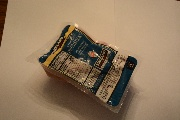chicken: (29, 18, 140, 112)
